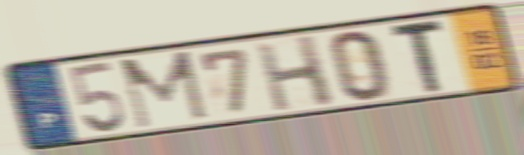0: (327, 27, 392, 103)
5: (66, 59, 126, 135)
7: (195, 45, 250, 116)
H: (252, 32, 339, 114)
M: (116, 48, 212, 132)
T: (389, 16, 448, 97)
